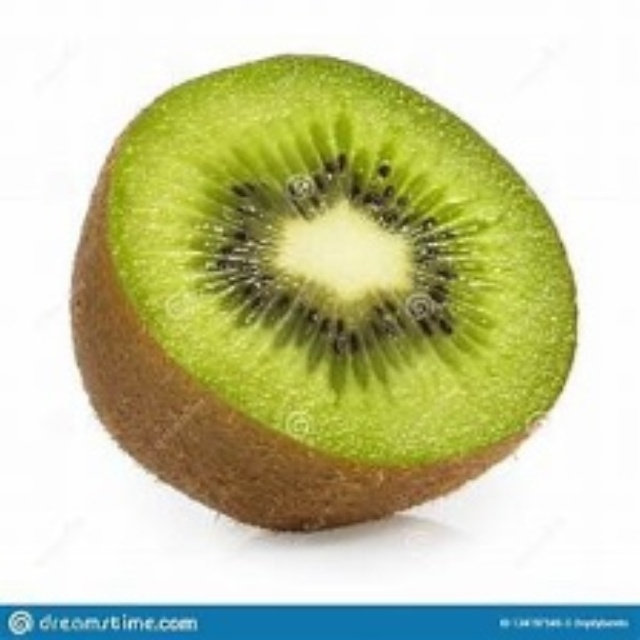kiwi: (62, 52, 585, 534)
